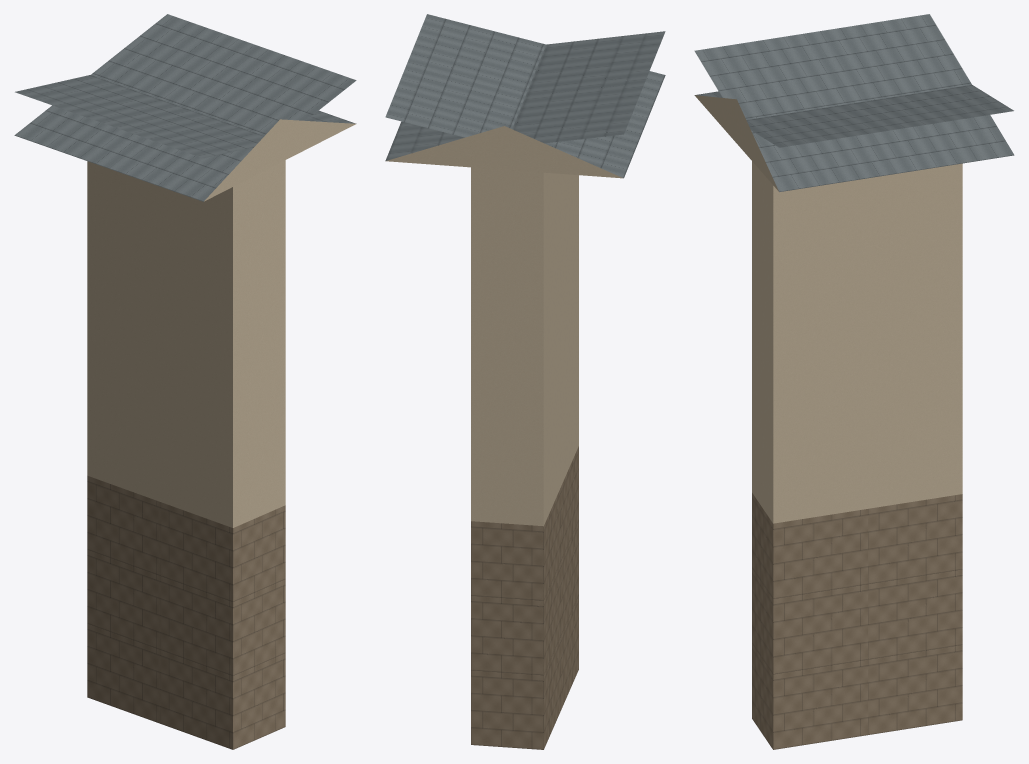
The model's file is bld_c-1_-1_538.gltf.
3 views of the same model, side by side, from view 1: azimuth 30°, elevation 25°; view 2: azimuth 150°, elevation 25°; view 3: azimuth 270°, elevation 25° (orthographic). The views are drawn at different scales.
Parts seen in each view (by area): view 1: bld_c-1_-1_538; view 2: bld_c-1_-1_538; view 3: bld_c-1_-1_538.
Boxes of the visible parts, <box> form: bld_c-1_-1_538: <box>14,14,356,749</box>; bld_c-1_-1_538: <box>385,14,665,749</box>; bld_c-1_-1_538: <box>694,14,1014,749</box>.
Size of the model in its own units: 6.47 by 14.4 by 6.54.
4 materials, 4 textured.
